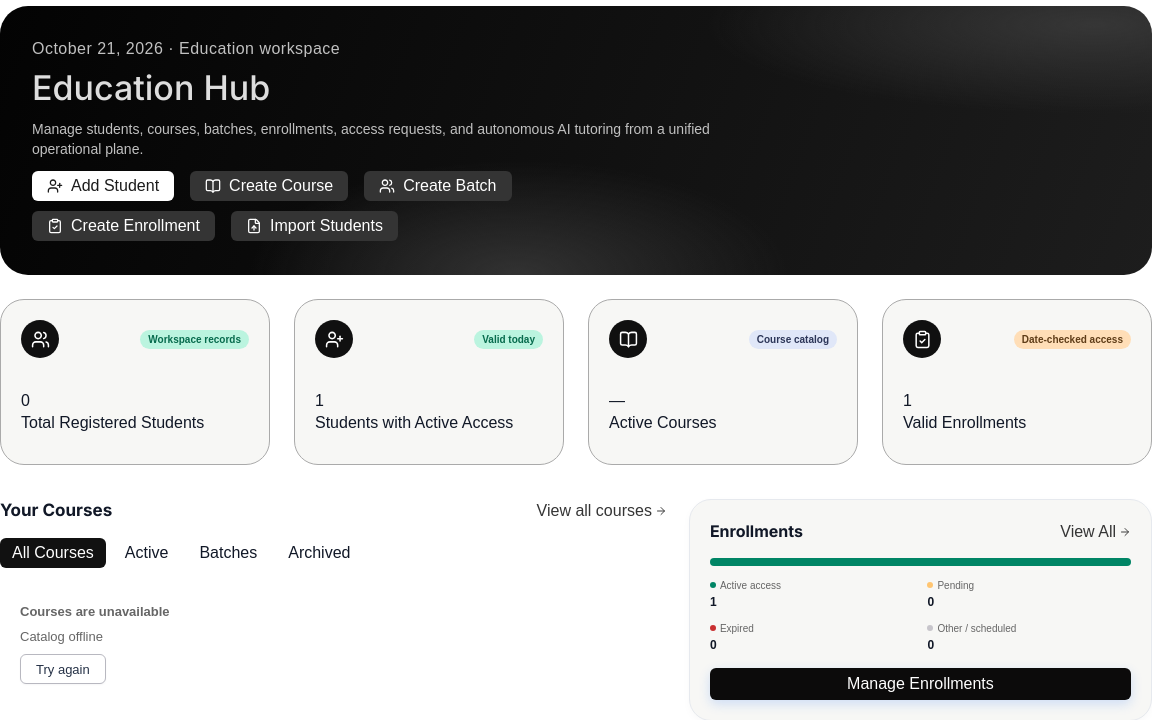
it: PDF dashboard interactions › shows an API failure rather than invented courses and supports retry
The width and height of the screenshot is (1152, 720).
Expected: the text "Catalog offline" is shown, 20,629 -> 103,644
What coordinates should you click on to do the following:
click the button "Try again"
I would click on:
 (63, 669)
Its box is 20,654 -> 106,684.
(page scrolled)
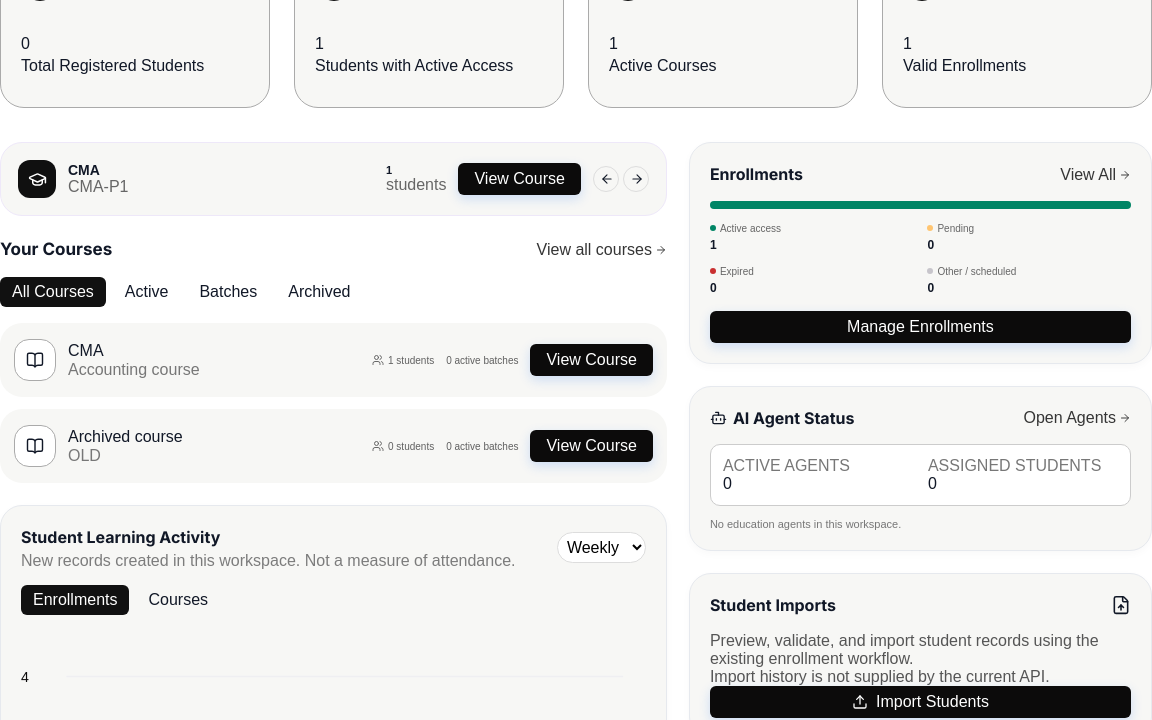
Expected: the link with aria-label "View course CMA" is shown, 530,344 -> 653,376
